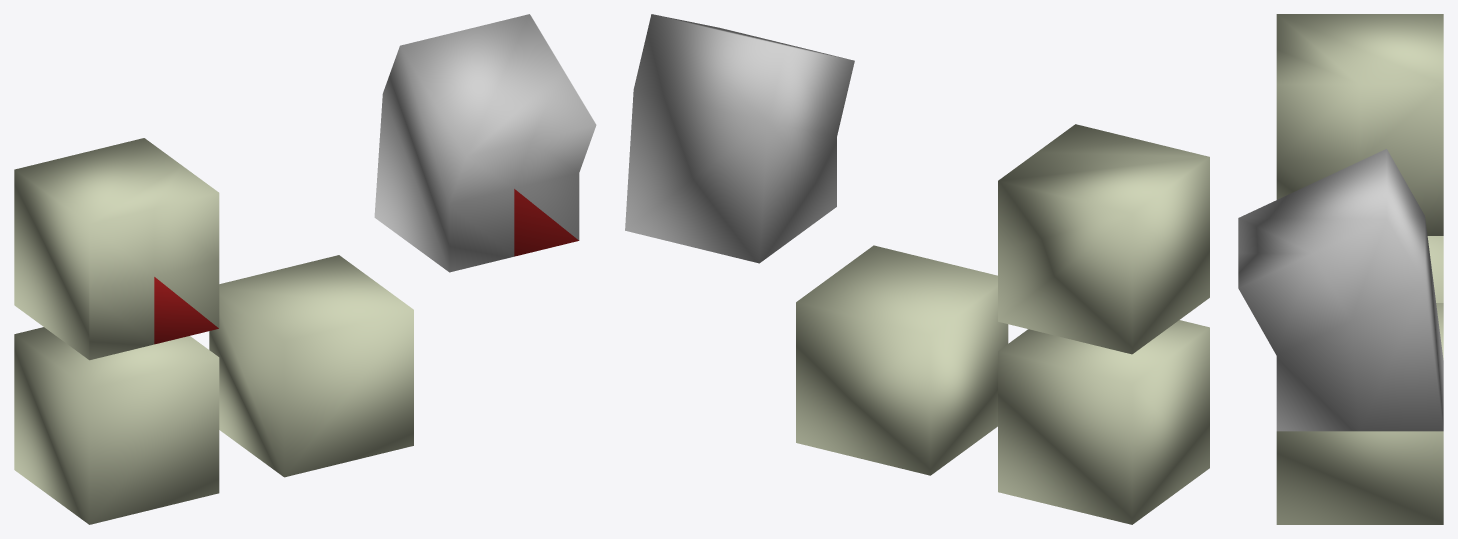
File: UnTriang.obj
3 renders of one model, left to right at view 1: azimuth 30°, elevation 25°; view 2: azimuth 150°, elevation 25°; view 3: azimuth 270°, elevation 25°, orthographic. The views are drawn at different scales.
Parts seen in each view (by area): view 1: cubeNTri2MatFold, cubeNTri2Mat, cube2Tri, cube1Tri; view 2: cubeNTri2MatFold, cubeNTri2Mat, cube2Tri, cube1Tri; view 3: cubeNTri2MatFold, cubeNTri2Mat, cube2Tri, cube1Tri.
Part boxes in pixels (x1,y1,x2,y2): cubeNTri2MatFold: [374, 14, 596, 272]; cubeNTri2Mat: [14, 138, 219, 360]; cube2Tri: [209, 255, 413, 477]; cube1Tri: [14, 327, 219, 524]; cubeNTri2MatFold: [625, 14, 854, 263]; cubeNTri2Mat: [998, 124, 1209, 354]; cube2Tri: [796, 245, 1008, 475]; cube1Tri: [998, 320, 1209, 524]; cubeNTri2MatFold: [1238, 149, 1443, 431]; cubeNTri2Mat: [1276, 14, 1443, 235]; cube2Tri: [1276, 303, 1443, 524]; cube1Tri: [1427, 236, 1443, 302].
Bounding box in the file's own units: 7.54 × 5.23 × 2.46.
